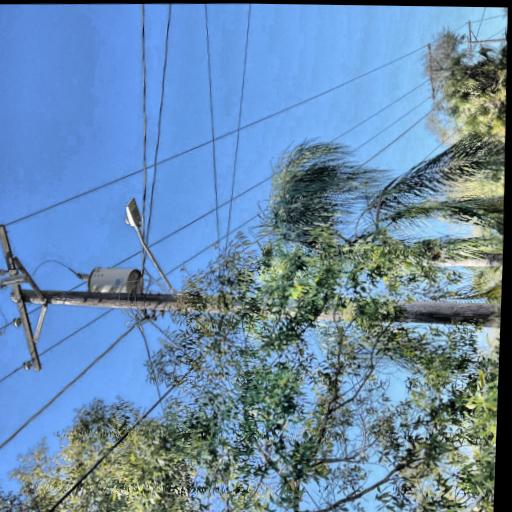pole: (25, 152, 99, 512)
street light: (77, 274, 171, 353)
transformer: (73, 235, 111, 302)
